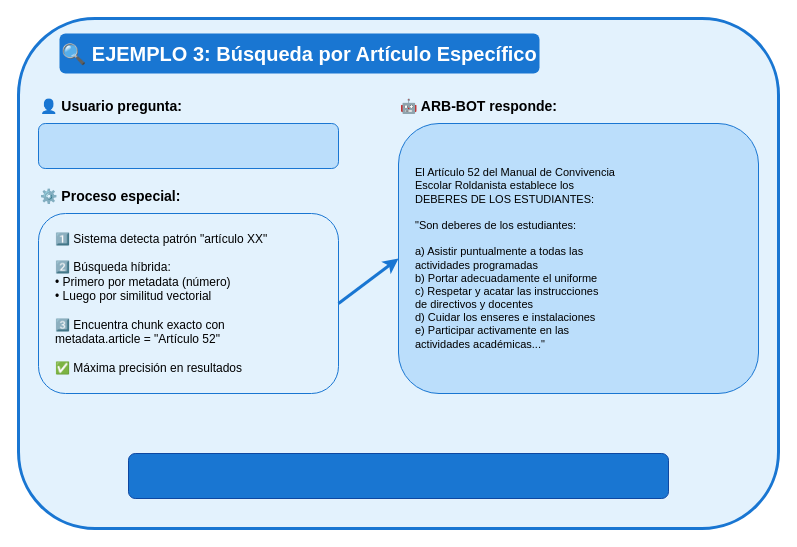
This 797x547 diagram has some shape labels left out. The centre of each missing label's shape, as x and y in pixels:
"¿Qué dice el artículo 52?": (x=188, y=145)
🎯 Búsqueda PRECISA: El sistema encuentra el artículo exacto solicitado: (x=398, y=475)
